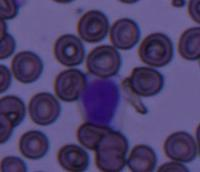L: (78, 76, 128, 127)
